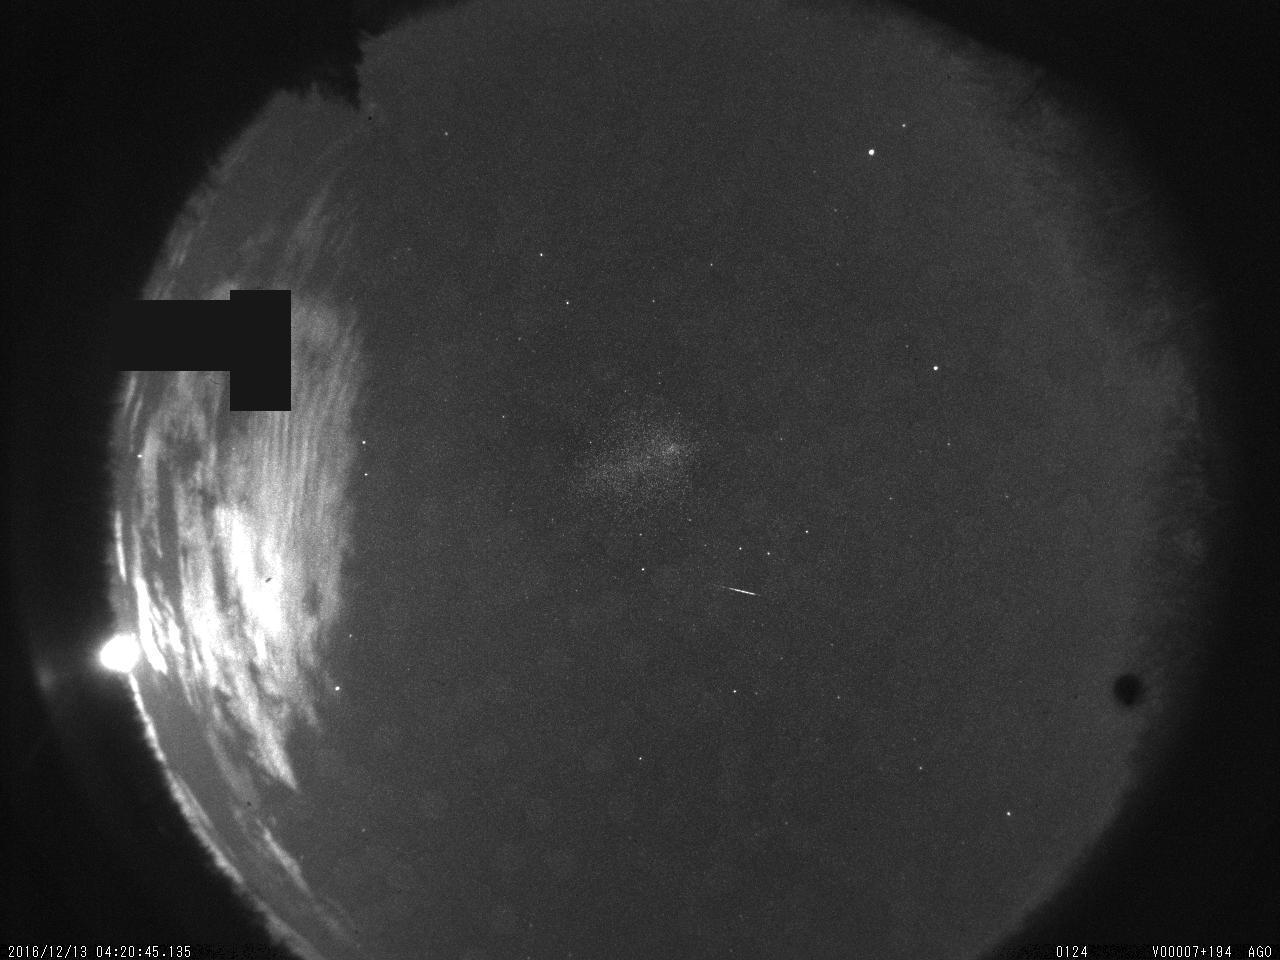meteor: (696, 569, 775, 609)
